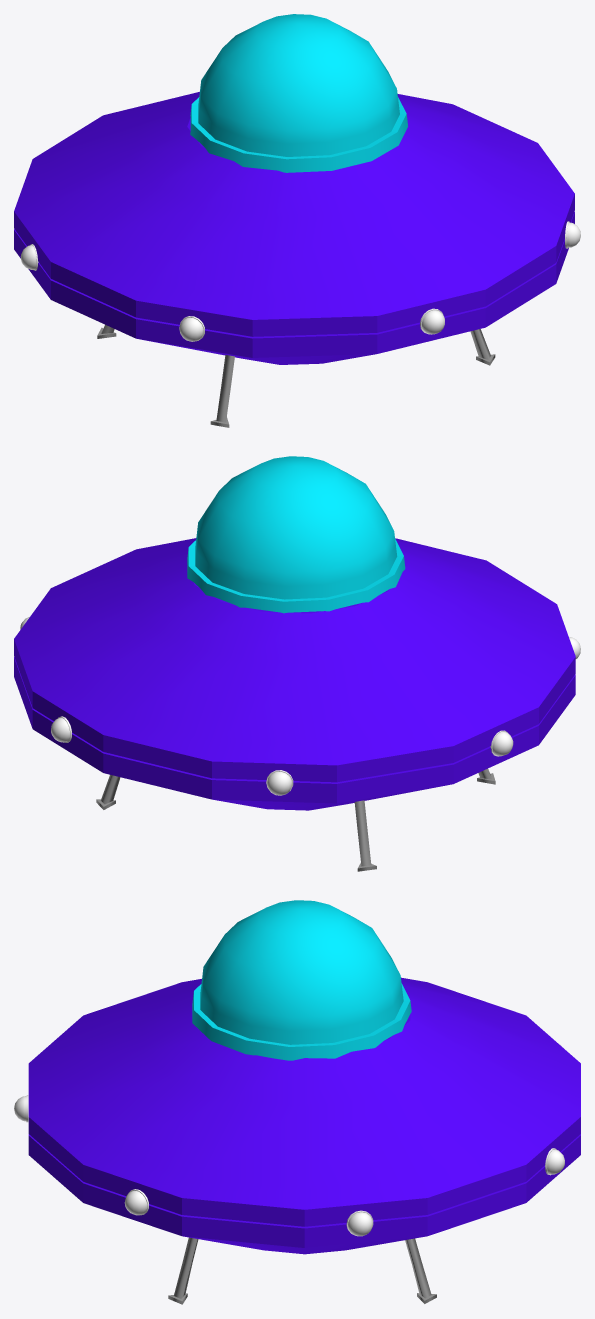
The model's file is craft.FBX.
3 views of the same model, one above another, from view 1: azimuth 30°, elevation 25°; view 2: azimuth 150°, elevation 25°; view 3: azimuth 270°, elevation 25° (orthographic).
Parts seen in each view (by area): view 1: Cone001; view 2: Cone001; view 3: Cone001.
Boxes of the visible parts, x1,y1,x2,y2 form: Cone001: (14, 14, 580, 427); Cone001: (14, 456, 580, 871); Cone001: (14, 900, 580, 1304).
Size of the model in its own units: 44.76 by 28.39 by 44.62.
